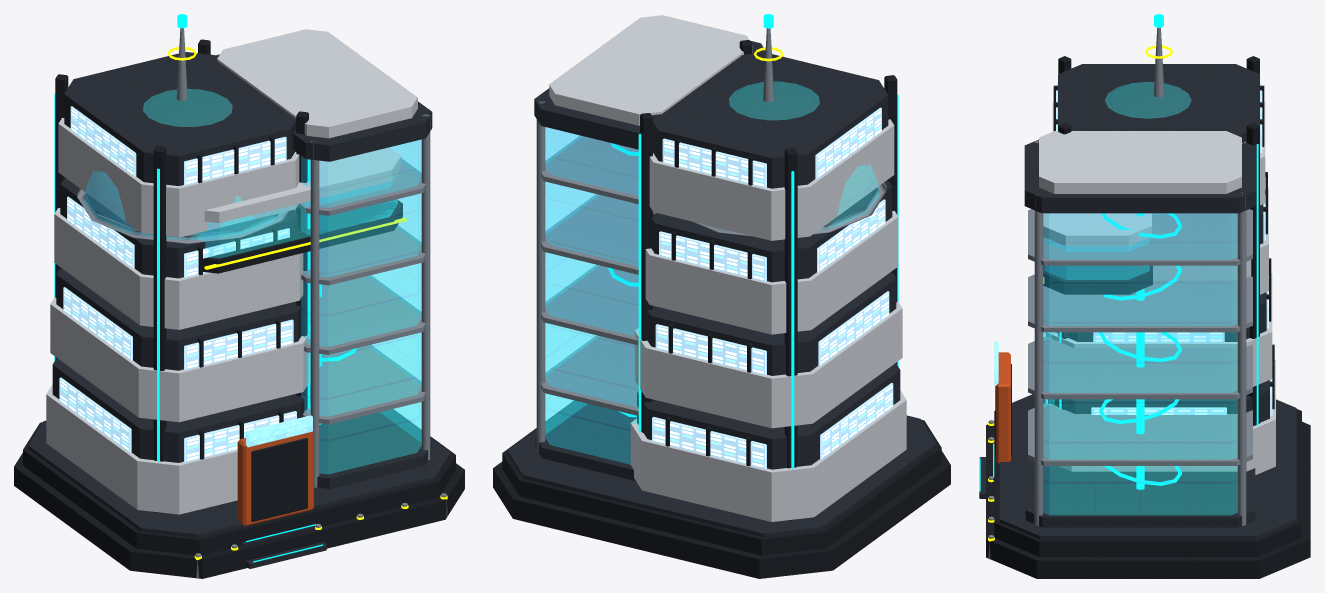
Rendered from bldg_05_r1_05.glb.
The picture shows the model from 3 angles, left to right: view 1: azimuth 30°, elevation 25°; view 2: azimuth 150°, elevation 25°; view 3: azimuth 270°, elevation 25°; orthographic projection. The views are drawn at different scales.
Parts seen in each view (by area): view 1: Bldg05_C05_aero_white, Bldg05_C05_carbon_slate, Bldg05_C05_glass_cyan, Bldg05_C05_gunmetal, Bldg05_C05_steel_machined, Bldg05_C05_window_lit, Bldg05_C05_led_cyan, Bldg05_C05_accent_orange, Bldg05_C05_marquee, Bldg05_C05_led_amber; view 2: Bldg05_C05_aero_white, Bldg05_C05_carbon_slate, Bldg05_C05_glass_cyan, Bldg05_C05_gunmetal, Bldg05_C05_steel_machined, Bldg05_C05_window_lit, Bldg05_C05_led_cyan; view 3: Bldg05_C05_glass_cyan, Bldg05_C05_steel_machined, Bldg05_C05_carbon_slate, Bldg05_C05_aero_white, Bldg05_C05_gunmetal, Bldg05_C05_led_cyan, Bldg05_C05_window_lit, Bldg05_C05_accent_orange.
Boxes of the visible parts, x1,y1,x2,y2 form: Bldg05_C05_aero_white: (46, 29, 417, 514); Bldg05_C05_carbon_slate: (28, 52, 450, 568); Bldg05_C05_glass_cyan: (84, 89, 421, 474); Bldg05_C05_gunmetal: (14, 39, 464, 578); Bldg05_C05_steel_machined: (77, 28, 447, 578); Bldg05_C05_window_lit: (59, 106, 296, 462); Bldg05_C05_led_cyan: (54, 14, 357, 562); Bldg05_C05_accent_orange: (237, 428, 313, 526); Bldg05_C05_marquee: (246, 415, 312, 447); Bldg05_C05_led_amber: (167, 47, 447, 559); Bldg05_C05_aero_white: (549, 15, 906, 521); Bldg05_C05_carbon_slate: (507, 40, 936, 537); Bldg05_C05_glass_cyan: (545, 81, 879, 464); Bldg05_C05_gunmetal: (493, 40, 950, 578); Bldg05_C05_steel_machined: (536, 28, 886, 452); Bldg05_C05_window_lit: (652, 107, 893, 468); Bldg05_C05_led_cyan: (607, 14, 898, 468); Bldg05_C05_glass_cyan: (1043, 82, 1237, 514); Bldg05_C05_steel_machined: (988, 27, 1252, 559); Bldg05_C05_carbon_slate: (979, 64, 1296, 539); Bldg05_C05_aero_white: (1039, 101, 1275, 474); Bldg05_C05_gunmetal: (986, 56, 1310, 578); Bldg05_C05_led_cyan: (979, 14, 1258, 491); Bldg05_C05_window_lit: (1046, 83, 1272, 415); Bldg05_C05_accent_orange: (996, 352, 1010, 463).
Bounding box in the file's own units: 12 × 16.42 × 10.71.
Materials: 11 (11 with a texture image).
